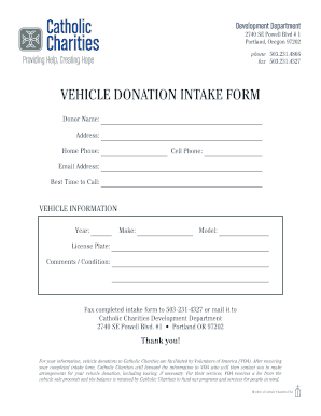textline: (99, 108, 265, 127), (112, 254, 274, 272), (110, 269, 272, 287), (99, 176, 267, 190), (99, 129, 266, 143), (99, 161, 266, 175), (110, 241, 272, 254), (203, 143, 265, 160), (98, 144, 170, 158), (135, 223, 197, 239), (218, 223, 271, 238), (88, 222, 112, 238)
